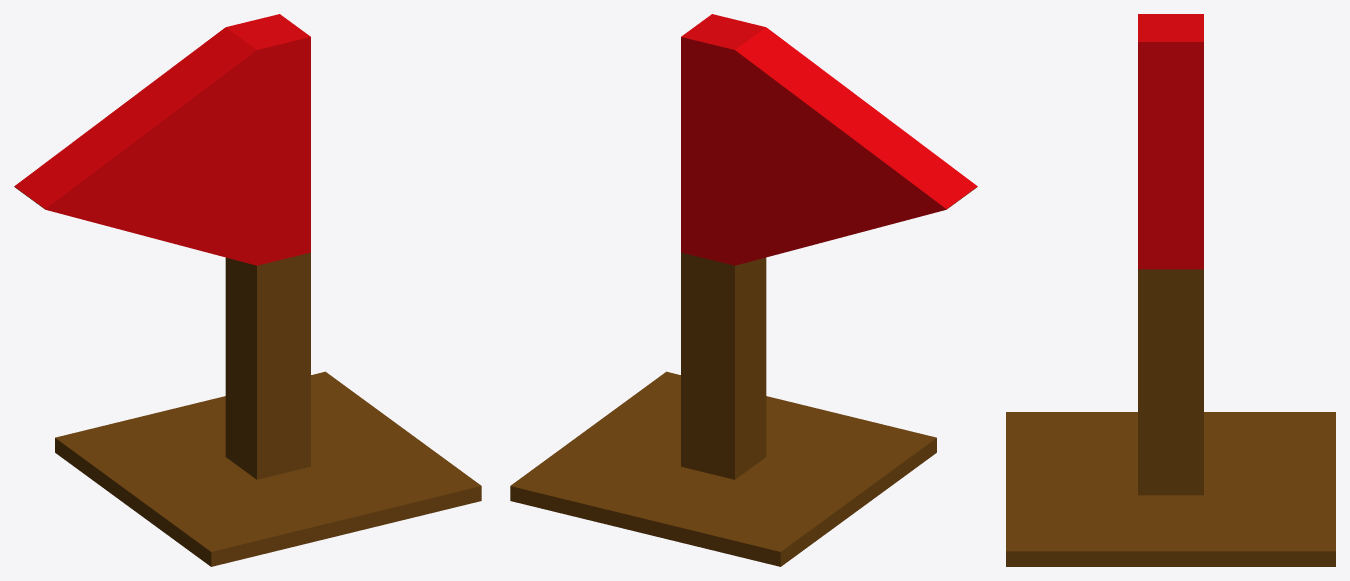
File: Flagmarker.fbx
The picture shows the model from 3 angles, left to right: view 1: azimuth 30°, elevation 25°; view 2: azimuth 150°, elevation 25°; view 3: azimuth 270°, elevation 25°; orthographic projection. The views are drawn at different scales.
Visible parts, largest first — view 1: Cube; view 2: Cube; view 3: Cube.
Part boxes in pixels (box(x1,y1,x2,y2)): Cube: box(14, 14, 481, 566); Cube: box(510, 14, 977, 566); Cube: box(1006, 14, 1335, 566).
Bounding box in the file's own units: 276 × 314 × 200.
